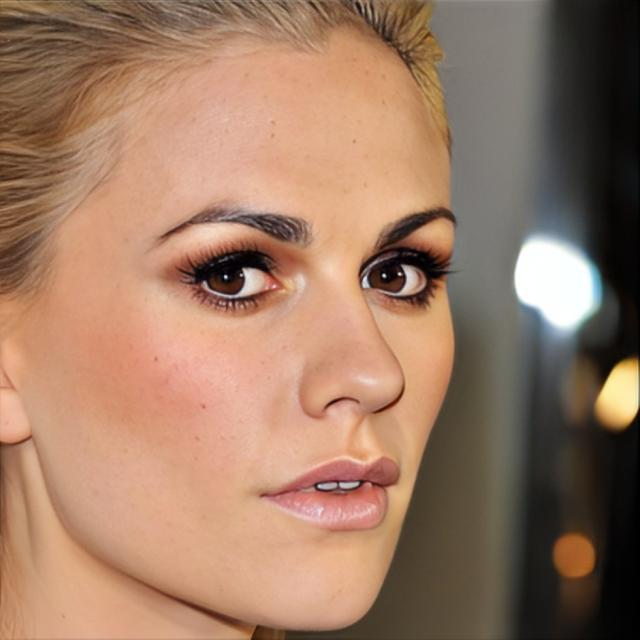neutral: (36, 25, 459, 634)
